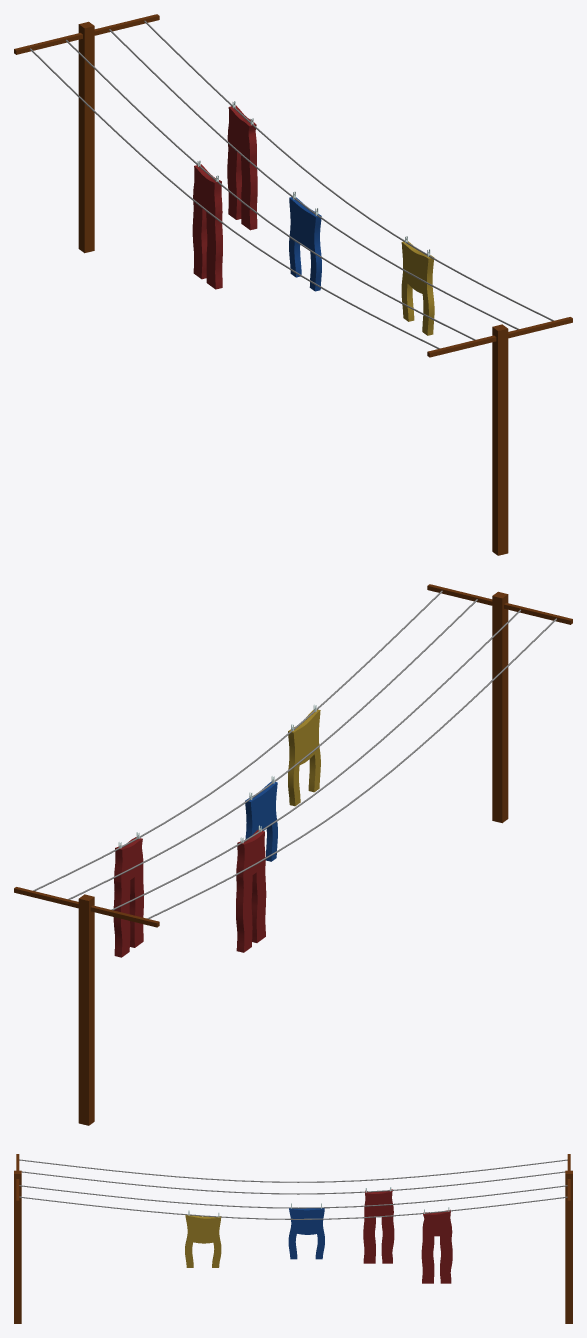
The model's file is clothesline.fbx.
The picture shows the model from 3 angles, top to bottom: view 1: azimuth 30°, elevation 25°; view 2: azimuth 150°, elevation 25°; view 3: azimuth 270°, elevation 25°; orthographic projection. The views are drawn at different scales.
Visible parts, largest first — view 1: sostegni, fili, pantaloni_rossi, pantaloni_verdi, maglia_gialla, maglia_blu; view 2: sostegni, fili, pantaloni_rossi, pantaloni_verdi, maglia_gialla, maglia_blu; view 3: fili, sostegni, pantaloni_verdi, pantaloni_rossi, maglia_gialla, maglia_blu.
Part boxes in pixels (<box>): sostegni: <box>14,14,572,555</box>; fili: <box>30,20,553,348</box>; pantaloni_rossi: <box>192,164,222,289</box>; pantaloni_verdi: <box>227,105,257,230</box>; maglia_gialla: <box>401,241,434,335</box>; maglia_blu: <box>289,197,321,291</box>; sostegni: <box>14,584,572,1125</box>; fili: <box>33,590,556,918</box>; pantaloni_rossi: <box>236,830,266,952</box>; pantaloni_verdi: <box>113,837,143,957</box>; maglia_gialla: <box>288,709,320,806</box>; maglia_blu: <box>245,781,277,861</box>; fili: <box>19,1159,567,1219</box>; sostegni: <box>14,1154,572,1323</box>; pantaloni_verdi: <box>421,1209,452,1283</box>; pantaloni_rossi: <box>363,1189,394,1263</box>; maglia_gialla: <box>185,1215,221,1267</box>; maglia_blu: <box>288,1208,324,1259</box>.
Bounding box in the file's own units: 100 × 150 × 507.
